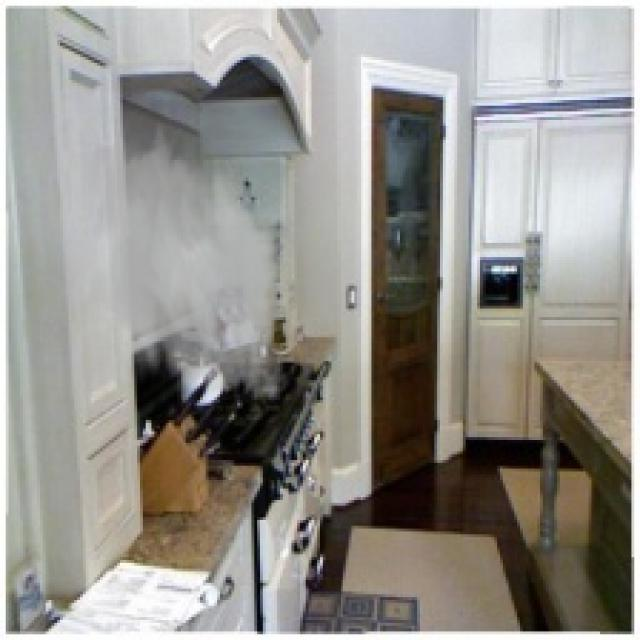smoke: (66, 132, 300, 412)
